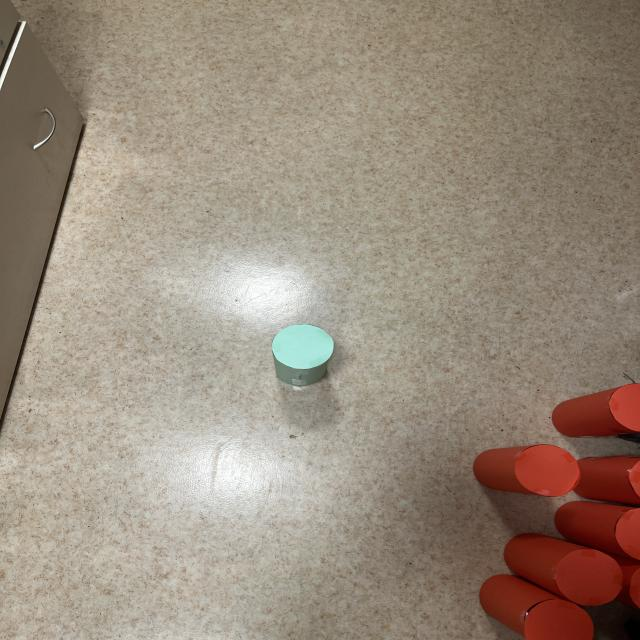meta: (272, 324, 334, 386)
